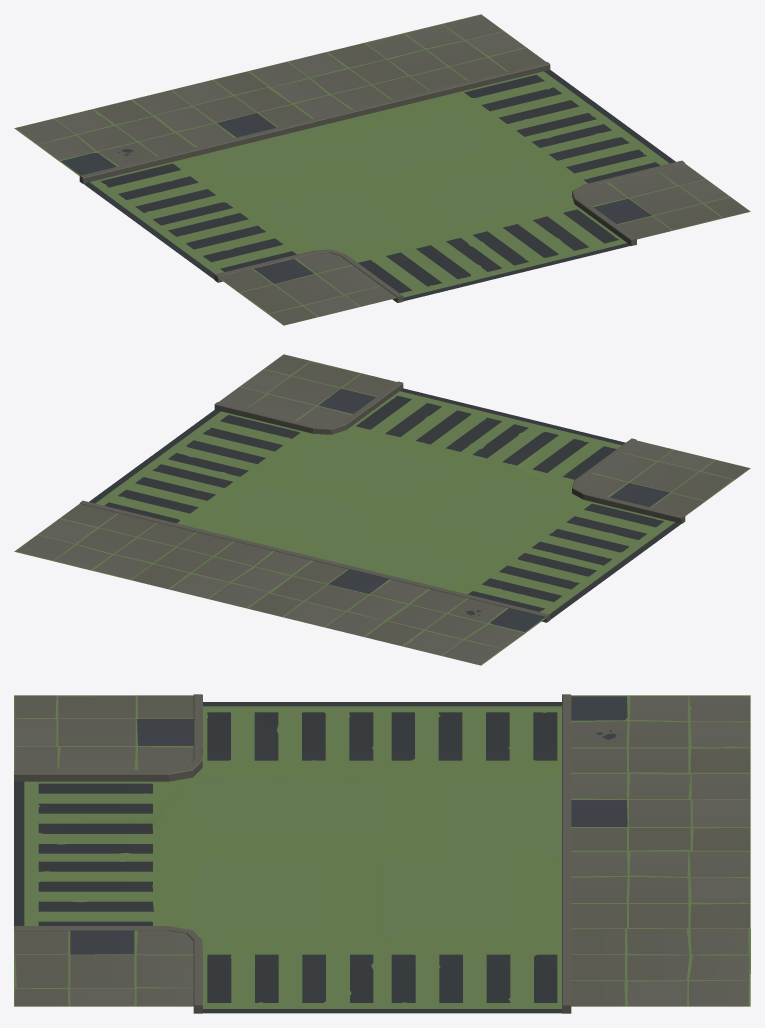
The model's file is Road_18.fbx.
The picture shows the model from 3 angles, top to bottom: view 1: azimuth 30°, elevation 25°; view 2: azimuth 150°, elevation 25°; view 3: azimuth 270°, elevation 25°; orthographic projection. The views are drawn at different scales.
Parts seen in each view (by area): view 1: Road_18; view 2: Road_18; view 3: Road_18.
Part boxes in pixels (left/top/right/bottom): Road_18: left=14, top=14, right=750, bottom=325; Road_18: left=14, top=354, right=750, bottom=665; Road_18: left=14, top=694, right=750, bottom=1013.
Bounding box in the file's own units: 12.01 × 0.1501 × 12.01.
